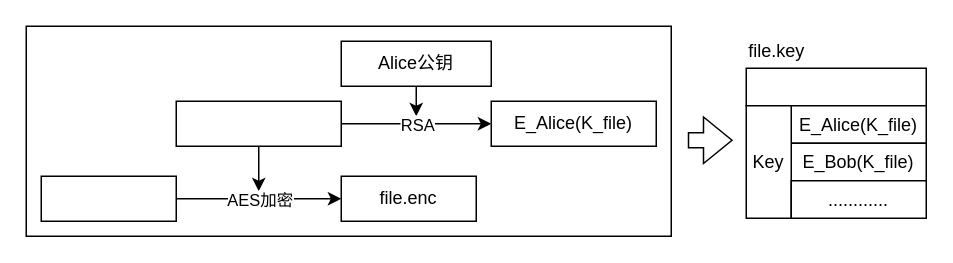
The diagram is 953 pixels wide and 263 high, and some of its shapes have lost their labels. The shapes that lost their labels are listed below. From the top down, each one's box as (x1, y1, x2, y2) in pixels, then its label:
(745, 67, 926, 106): Owner: Alice
(175, 100, 341, 146): 一次性密钥 K_file
(40, 175, 176, 221): file
